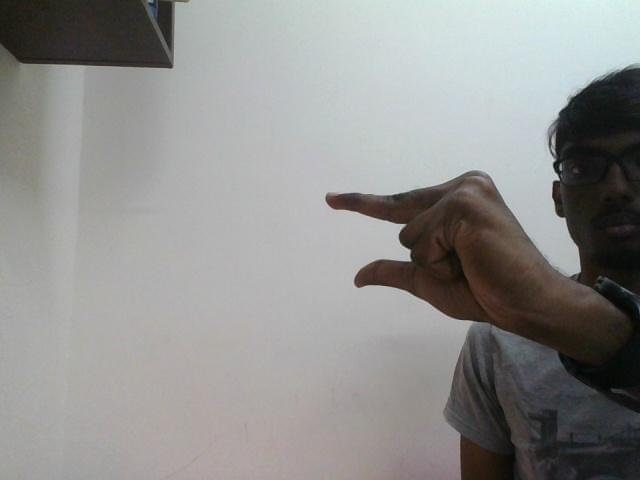No: (325, 179, 516, 301)
